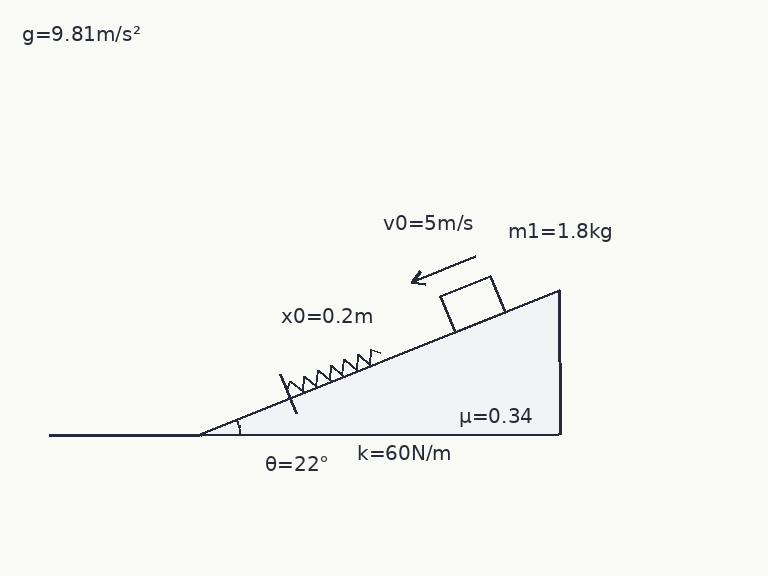block: (438, 274, 506, 334)
ramp: (198, 288, 562, 437)
spring: (285, 347, 382, 393)
